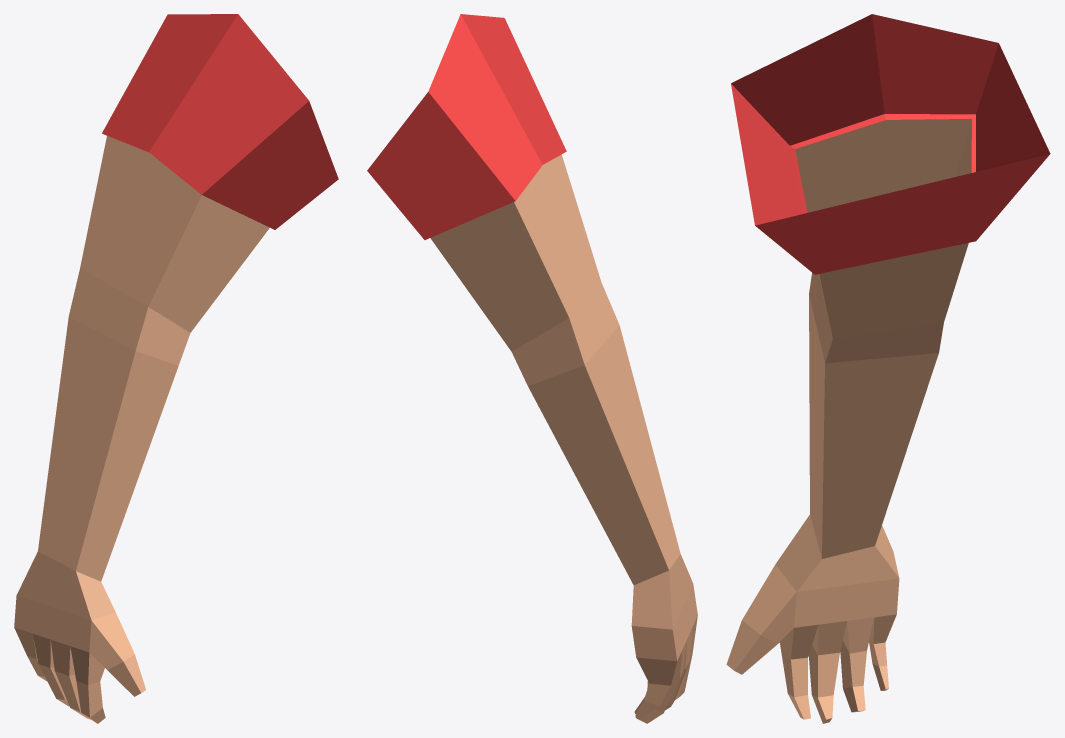
Rendered from brazo_der.obj.
3 renders of one model, left to right at view 1: azimuth 30°, elevation 25°; view 2: azimuth 150°, elevation 25°; view 3: azimuth 270°, elevation 25°, orthographic. The views are drawn at different scales.
Visible parts, largest first — view 1: Cube; view 2: Cube; view 3: Cube.
Part boxes in pixels (x1=…): Cube: x1=14, y1=14, x2=338, y2=723; Cube: x1=367, y1=14, x2=697, y2=723; Cube: x1=726, y1=14, x2=1050, y2=723.
Bounding box in the file's own units: 0.5701 × 1.31 × 0.4759.
Materials: 2 (2 with a texture image).
